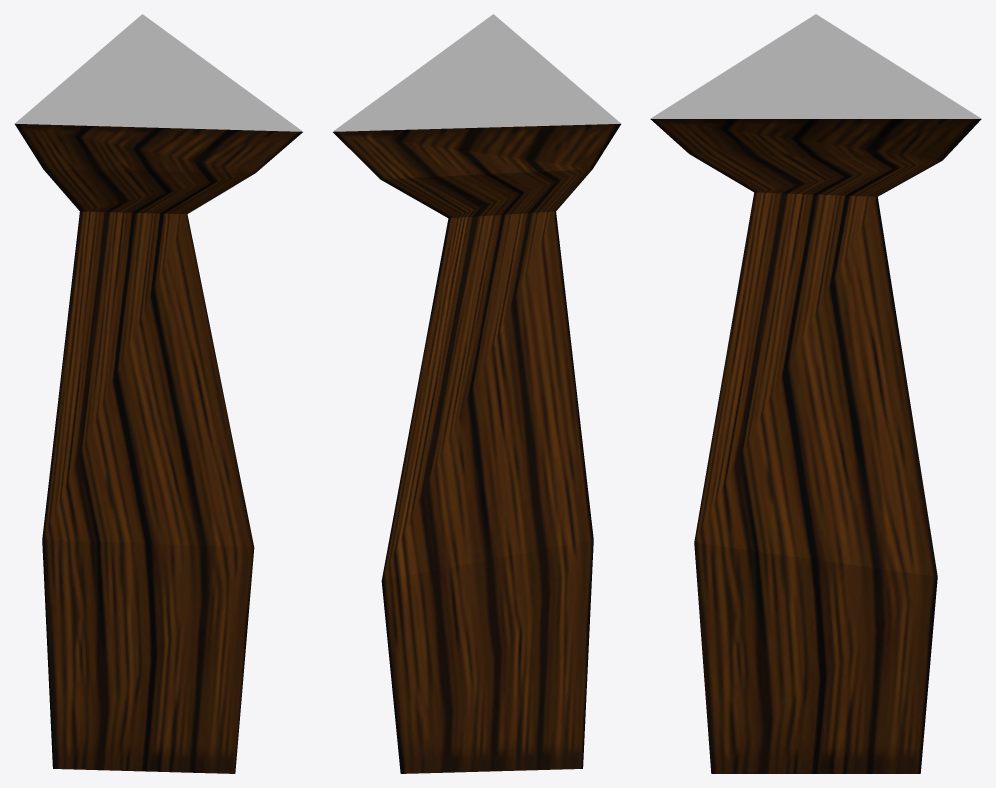
The model's file is Säule_Ionisch_Dick_993.glb.
The picture shows the model from 3 angles, left to right: view 1: azimuth 30°, elevation 25°; view 2: azimuth 150°, elevation 25°; view 3: azimuth 270°, elevation 25°; orthographic projection. The views are drawn at different scales.
Visible parts, largest first — view 1: pCylinderShape91, polySurfaceShape1069; view 2: pCylinderShape91, polySurfaceShape1069; view 3: pCylinderShape91, polySurfaceShape1069.
Boxes of the visible parts, x1,y1,x2,y2 form: pCylinderShape91: (15,124,302,773); polySurfaceShape1069: (15,14,302,131); pCylinderShape91: (333,124,620,773); polySurfaceShape1069: (333,14,620,131); pCylinderShape91: (650,119,981,773); polySurfaceShape1069: (650,14,981,118).
Size of the model in its own units: 0.1165 by 0.3495 by 0.1559.
2 materials, 1 textured.
